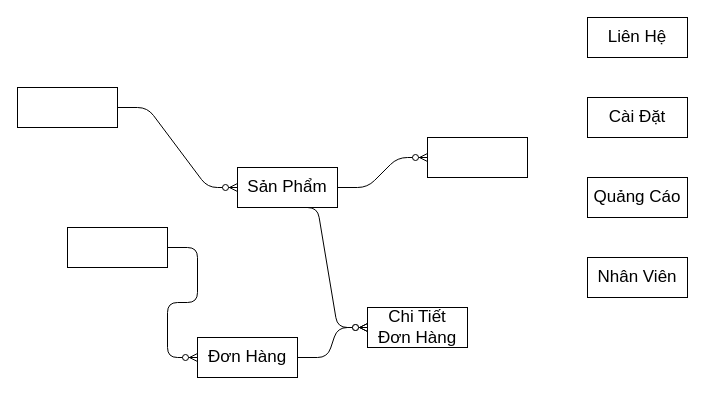
This 705x395 diagram has some shape labels left out. The centre of each missing label's shape, as x and y in pixels:
"Khách Hàng" belongs at (x=117, y=247).
"Nhà Sản Xuất" belongs at (x=67, y=107).
"Ảnh Sản Phẩm" belongs at (x=477, y=157).
